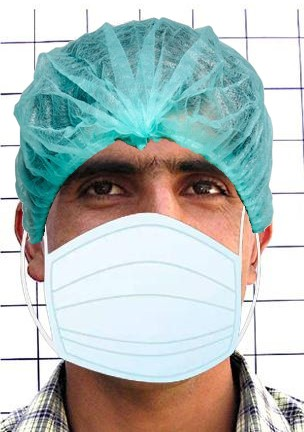with_mask_and_cap: (17, 21, 271, 383)
